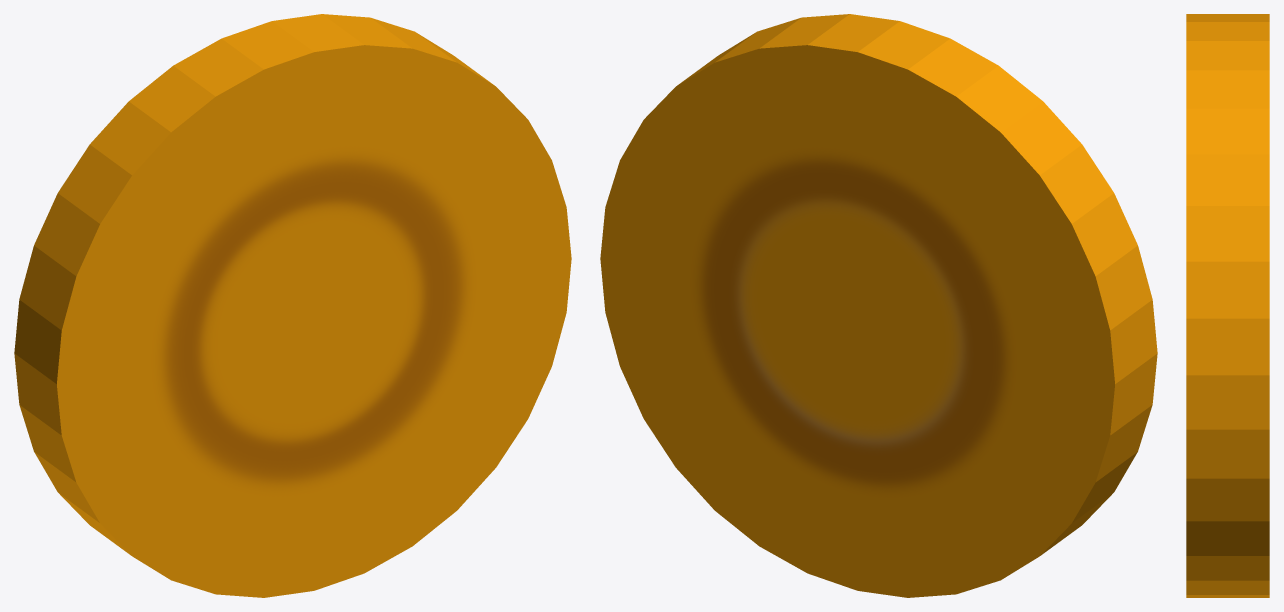
Rendered from coin.obj.
3 renders of one model, left to right at view 1: azimuth 30°, elevation 25°; view 2: azimuth 150°, elevation 25°; view 3: azimuth 270°, elevation 25°, orthographic.
Visible parts, largest first — view 1: Cylinder; view 2: Cylinder; view 3: Cylinder.
Part boxes in pixels (bbox=[...]): Cylinder: bbox=[14, 14, 571, 597]; Cylinder: bbox=[600, 14, 1157, 597]; Cylinder: bbox=[1186, 14, 1269, 597].
Bounding box in the file's own units: 0.875 × 0.875 × 0.125.
Materials: 1 (1 with a texture image).
